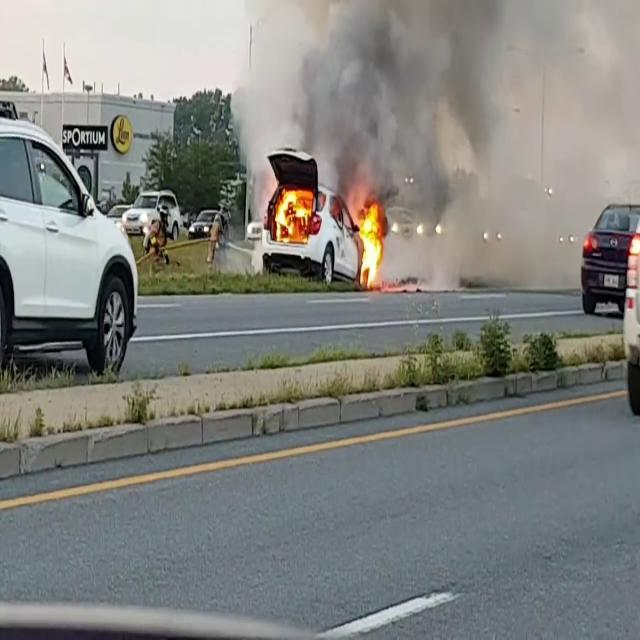Fire: (351, 198, 389, 286), (270, 184, 316, 240)
Smoke: (224, 0, 639, 196)
